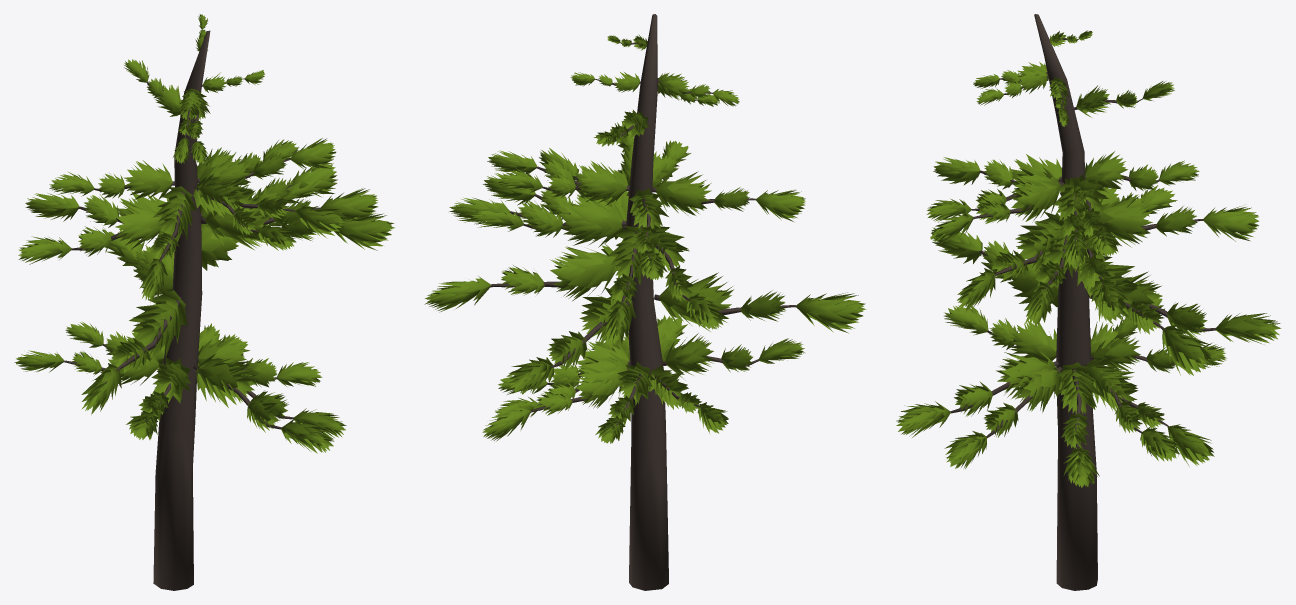
The picture shows the model from 3 angles, left to right: view 1: azimuth 30°, elevation 25°; view 2: azimuth 150°, elevation 25°; view 3: azimuth 270°, elevation 25°; orthographic projection. The views are drawn at different scales.
Parts seen in each view (by area): view 1: A1_LOD00; view 2: A1_LOD00; view 3: A1_LOD00.
Boxes of the visible parts, box(x1,y1,x2,y2) form: A1_LOD00: box(14, 14, 394, 590); A1_LOD00: box(424, 14, 866, 590); A1_LOD00: box(896, 14, 1281, 590).
Size of what is drawn, in the model's own units: 15.11 by 23.83 by 14.52.
